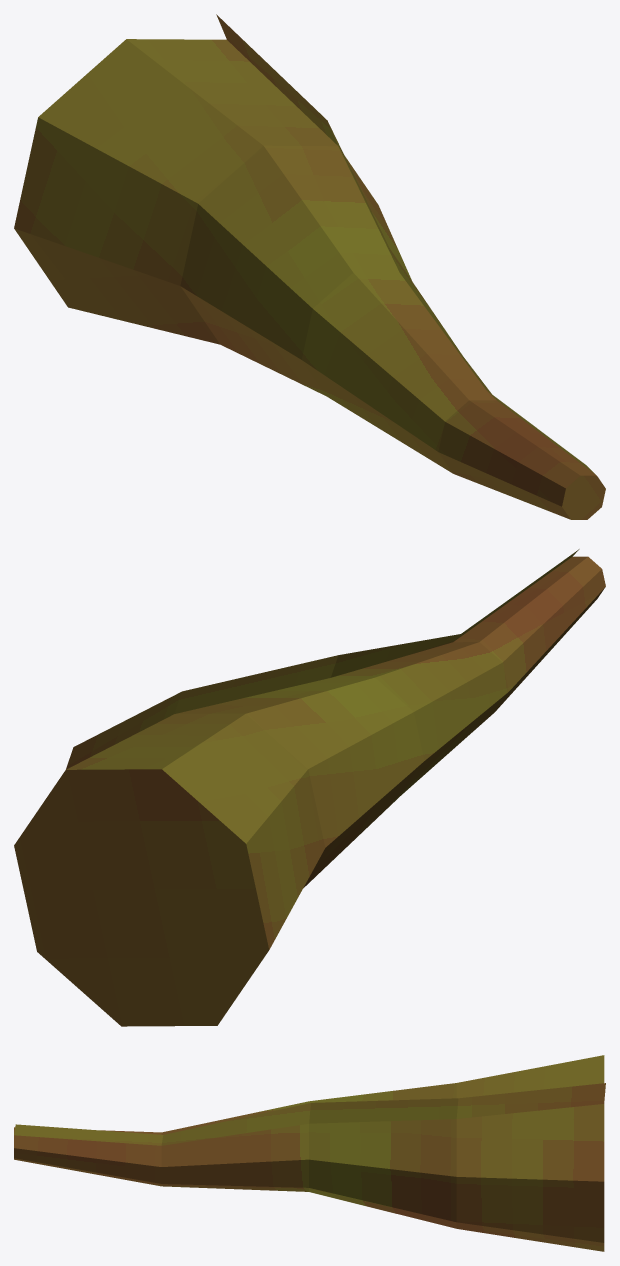
File: joint_new.glb
3 renders of one model, top to bottom at view 1: azimuth 30°, elevation 25°; view 2: azimuth 150°, elevation 25°; view 3: azimuth 270°, elevation 25°, orthographic. The views are drawn at different scales.
Parts seen in each view (by area): view 1: Joint; view 2: Joint; view 3: Joint.
Boxes of the visible parts, <box> form: Joint: <box>14,14,605,519</box>; Joint: <box>14,549,605,1026</box>; Joint: <box>14,1055,605,1251</box>.
Bounding box in the file's own units: 4.22 × 4.24 × 12.35.
Materials: 1 (1 with a texture image).
